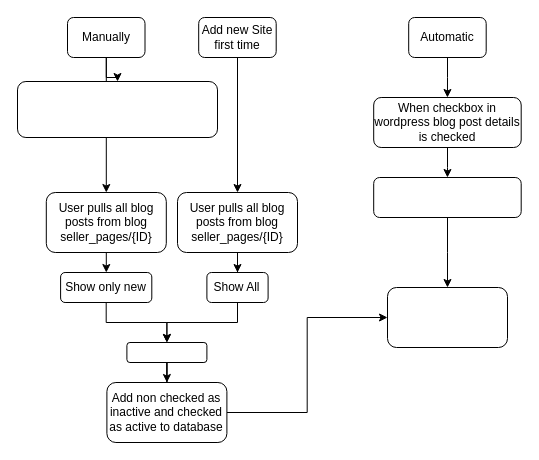
Image size: 539x460. Some labels were removed from this diagram. Here are the shapes that lost their labels. From the top down, the box of each, then its label:
(16, 80, 218, 138): "New Pages?" button on /seller_sites seller_pages/{id}?recheck_pages=true
(373, 176, 521, 218): Blog sends url to marketplace
(386, 286, 508, 348): Get metrics -> create price->add to market
(126, 342, 207, 362): Click submit
